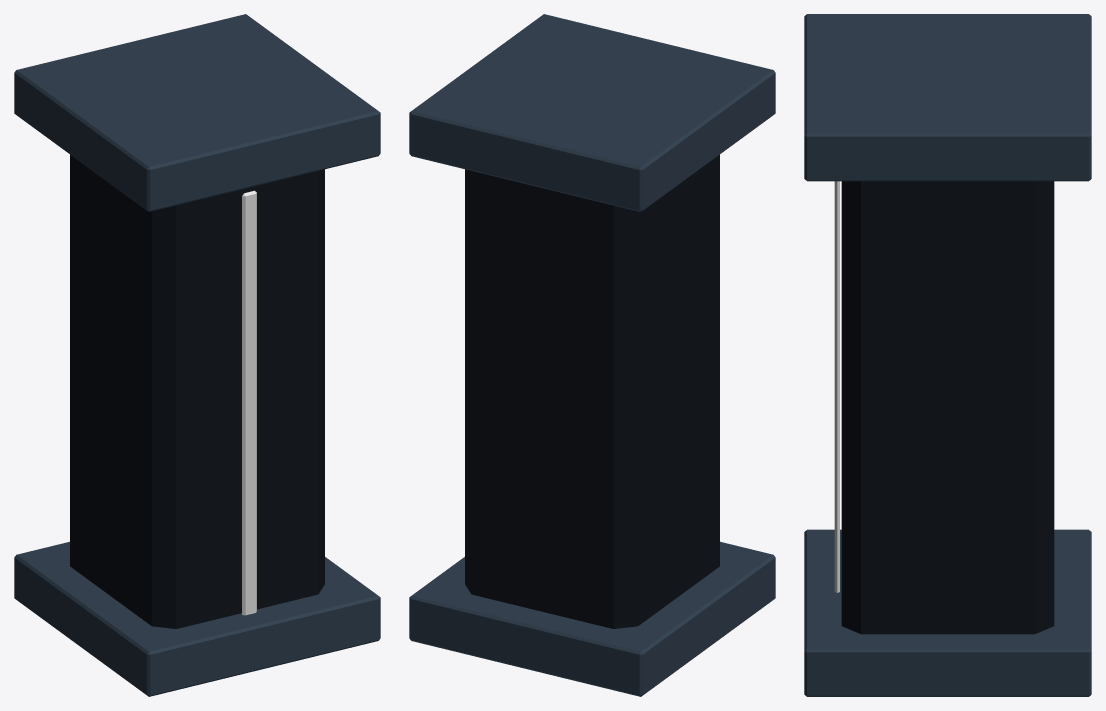
The model's file is Pillar.fbx.
3 views of the same model, side by side, from view 1: azimuth 30°, elevation 25°; view 2: azimuth 150°, elevation 25°; view 3: azimuth 270°, elevation 25° (orthographic). The views are drawn at different scales.
Visible parts, largest first — view 1: Pillar_Mesh; view 2: Pillar_Mesh; view 3: Pillar_Mesh.
Part boxes in pixels (<box>): Pillar_Mesh: <box>14,14,380,696</box>; Pillar_Mesh: <box>409,14,775,696</box>; Pillar_Mesh: <box>804,14,1091,696</box>.
Size of the model in its own units: 270 by 585 by 270.
